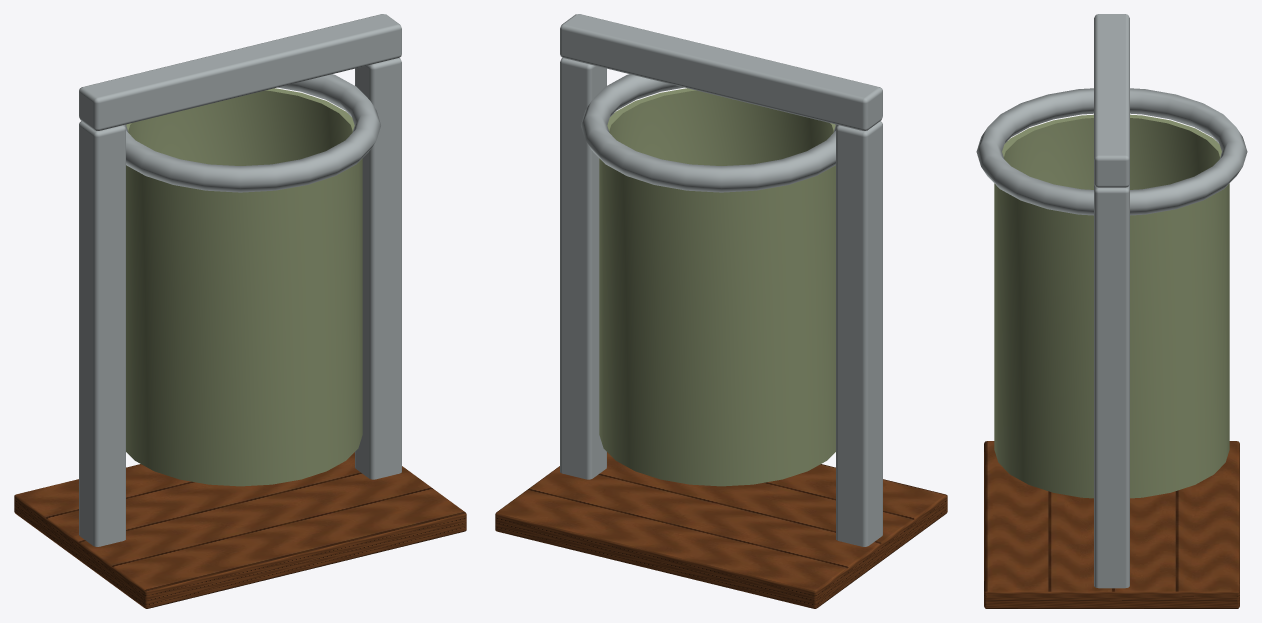
3 renders of one model, left to right at view 1: azimuth 30°, elevation 25°; view 2: azimuth 150°, elevation 25°; view 3: azimuth 270°, elevation 25°, orthographic. The views are drawn at different scales.
Parts seen in each view (by area): view 1: trade-sack-stand; view 2: trade-sack-stand; view 3: trade-sack-stand.
Part boxes in pixels (x1,y1,x2,y2): trade-sack-stand: (14,14,466,608); trade-sack-stand: (495,14,947,608); trade-sack-stand: (976,14,1247,608).
Bounding box in the file's own units: 0.7 × 0.97 × 0.53.
Materials: 3 (1 with a texture image).
